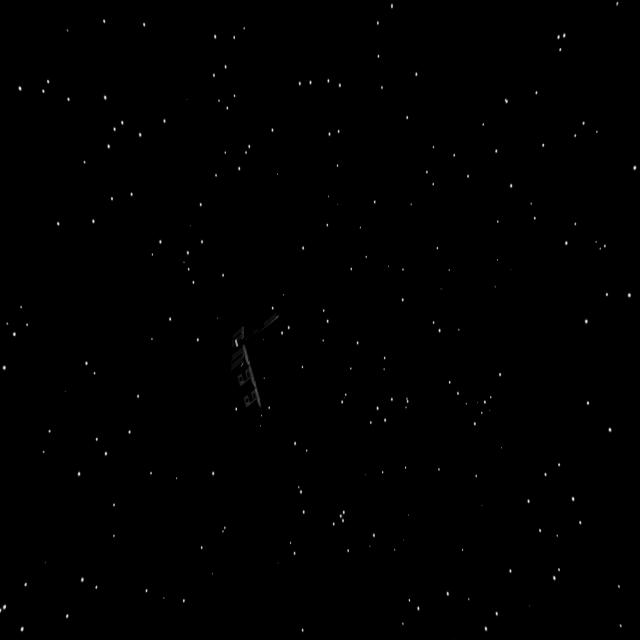medium_debris: (221, 302, 289, 419)
